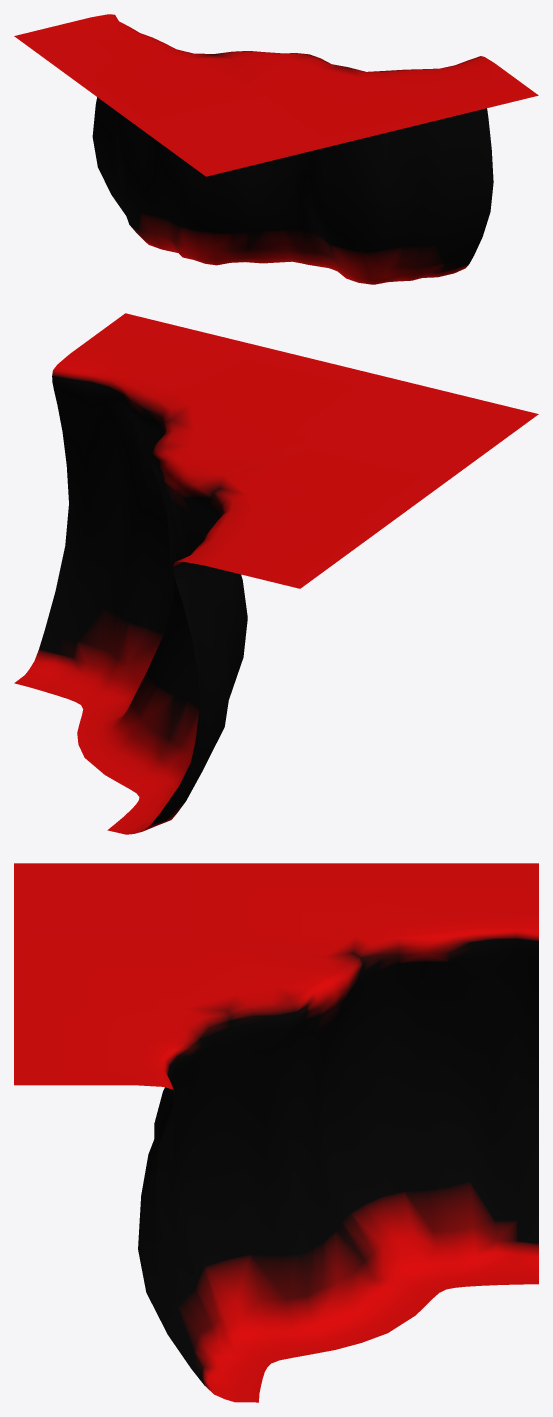
File: GroundCliff04A 2M Background.fbx
3 views of the same model, one above another, from view 1: azimuth 30°, elevation 25°; view 2: azimuth 150°, elevation 25°; view 3: azimuth 270°, elevation 25° (orthographic). The views are drawn at different scales.
Parts seen in each view (by area): view 1: GroundCliff04A 2M Background; view 2: GroundCliff04A 2M Background; view 3: GroundCliff04A 2M Background.
Boxes of the visible parts, x1=… form: GroundCliff04A 2M Background: x1=14, y1=14, x2=538, y2=284; GroundCliff04A 2M Background: x1=14, y1=313, x2=538, y2=834; GroundCliff04A 2M Background: x1=14, y1=863, x2=538, y2=1402.
Size of the model in its own units: 3 by 2 by 3.
